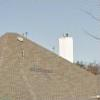Chimney: (52, 28, 82, 66)
